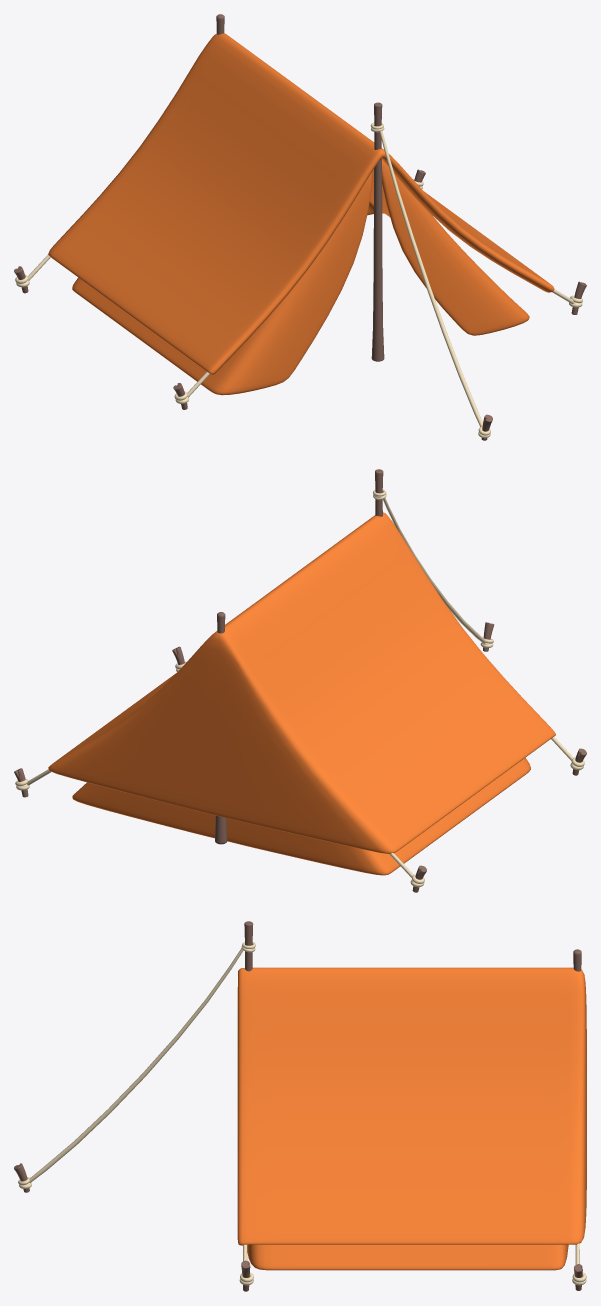
The model's file is camp_tent_ridge.gltf.
The picture shows the model from 3 angles, top to bottom: view 1: azimuth 30°, elevation 25°; view 2: azimuth 150°, elevation 25°; view 3: azimuth 270°, elevation 25°; orthographic projection. The views are drawn at different scales.
Parts seen in each view (by area): view 1: Part 1_6, Part 2_25, Stake 6_7, Rope 1_14; view 2: Part 1_6, Part 2_25, Rope 1_14; view 3: Part 1_6, Part 2_25, Rope 1_14.
Part boxes in pixels (box(x1,y1,x2,y2)): Part 1_6: box(48, 33, 554, 374); Part 2_25: box(72, 160, 529, 395); Stake 6_7: box(371, 102, 384, 361); Rope 1_14: box(379, 130, 482, 426); Part 1_6: box(48, 512, 555, 853); Part 2_25: box(72, 758, 530, 875); Rope 1_14: box(383, 498, 485, 643); Part 1_6: box(237, 967, 586, 1245); Part 2_25: box(247, 1244, 568, 1270); Rope 1_14: box(29, 948, 243, 1182).
Size of the model in its own units: 2.01 by 1.2 by 2.32.
5 materials, 5 textured.
